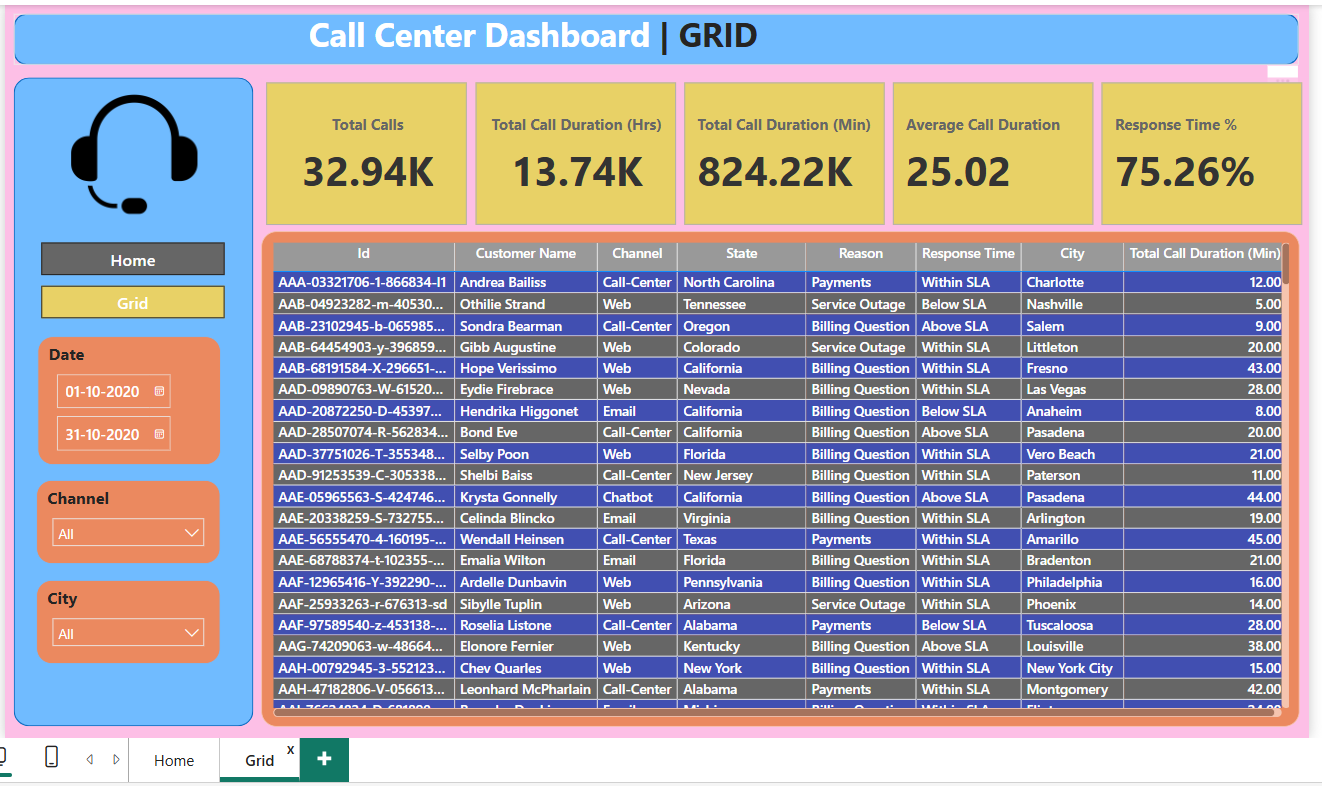

This screenshot's page, from the dashboard's own definition file:
{"tool":"powerbi","page":{"name":"Grid","canvas":[1280,720],"ordinal":1},"visuals":[{"type":"shape","box":[8.6,8.6,1262,50],"z":0},{"type":"shape","box":[8.4,71.2,235.3,637],"z":1000},{"type":"cardVisual","fields":{"Data":["Call Center_Call Center.Total Calls","Call Center_Call Center.Total Call Duration (Hrs)","Call Center_Call Center.Total Call Duration (Min)","Call Center_Call Center.Average Call Duration","Call Center_Call Center.Response Time %"]},"box":[250.9,71.2,1029.1,150.8],"z":2000},{"type":"textbox","box":[293.2,2.4,472.9,61.5],"z":3000},{"type":"slicer","title":"Date","fields":{"Values":["Date table.Date"]},"box":[31.4,325.7,179.8,126.7],"z":4000},{"type":"slicer","title":"Channel","fields":{"Values":["Call Center_Call Center.Channel"]},"box":[30.2,465.7,181,82],"z":5000},{"type":"slicer","title":"City","fields":{"Values":["Call Center_Call Center.City"]},"box":[30.2,564.6,181,82],"z":6000},{"type":"image","box":[60.3,79.6,133.9,133.9],"z":7000},{"type":"tableEx","fields":{"Values":["Call Center_Call Center.Id","Call Center_Call Center.Customer Name","Call Center_Call Center.Channel","Call Center_Call Center.State","Call Center_Call Center.Reason","Call Center_Call Center.Response Time","Call Center_Call Center.City","Call Center_Call Center.Total Call Duration (Min)"]},"box":[250.9,222,1019.4,486.2],"z":8000},{"type":"pageNavigator","box":[35.7,233.3,180,74.1],"z":9000}]}

Visuals, with their boxes on the page's 1280x720 design canvas (x1, y1, x2, y2). These are canvas units, not pixel positions in the 1322x786 screenshot, which may show the page scaled, cropped or inside an application window:
shape: x1=9, y1=9, x2=1271, y2=59
shape: x1=8, y1=71, x2=244, y2=708
cardVisual - Call Center_Call Center.Total Calls x Call Center_Call Center.Total Call Duration (Hrs): x1=251, y1=71, x2=1280, y2=222
textbox: x1=293, y1=2, x2=766, y2=64
"Date" slicer: x1=31, y1=326, x2=211, y2=452
"Channel" slicer: x1=30, y1=466, x2=211, y2=548
"City" slicer: x1=30, y1=565, x2=211, y2=647
image: x1=60, y1=80, x2=194, y2=214
tableEx - Call Center_Call Center.Id x Call Center_Call Center.Customer Name: x1=251, y1=222, x2=1270, y2=708
pageNavigator: x1=36, y1=233, x2=216, y2=307
